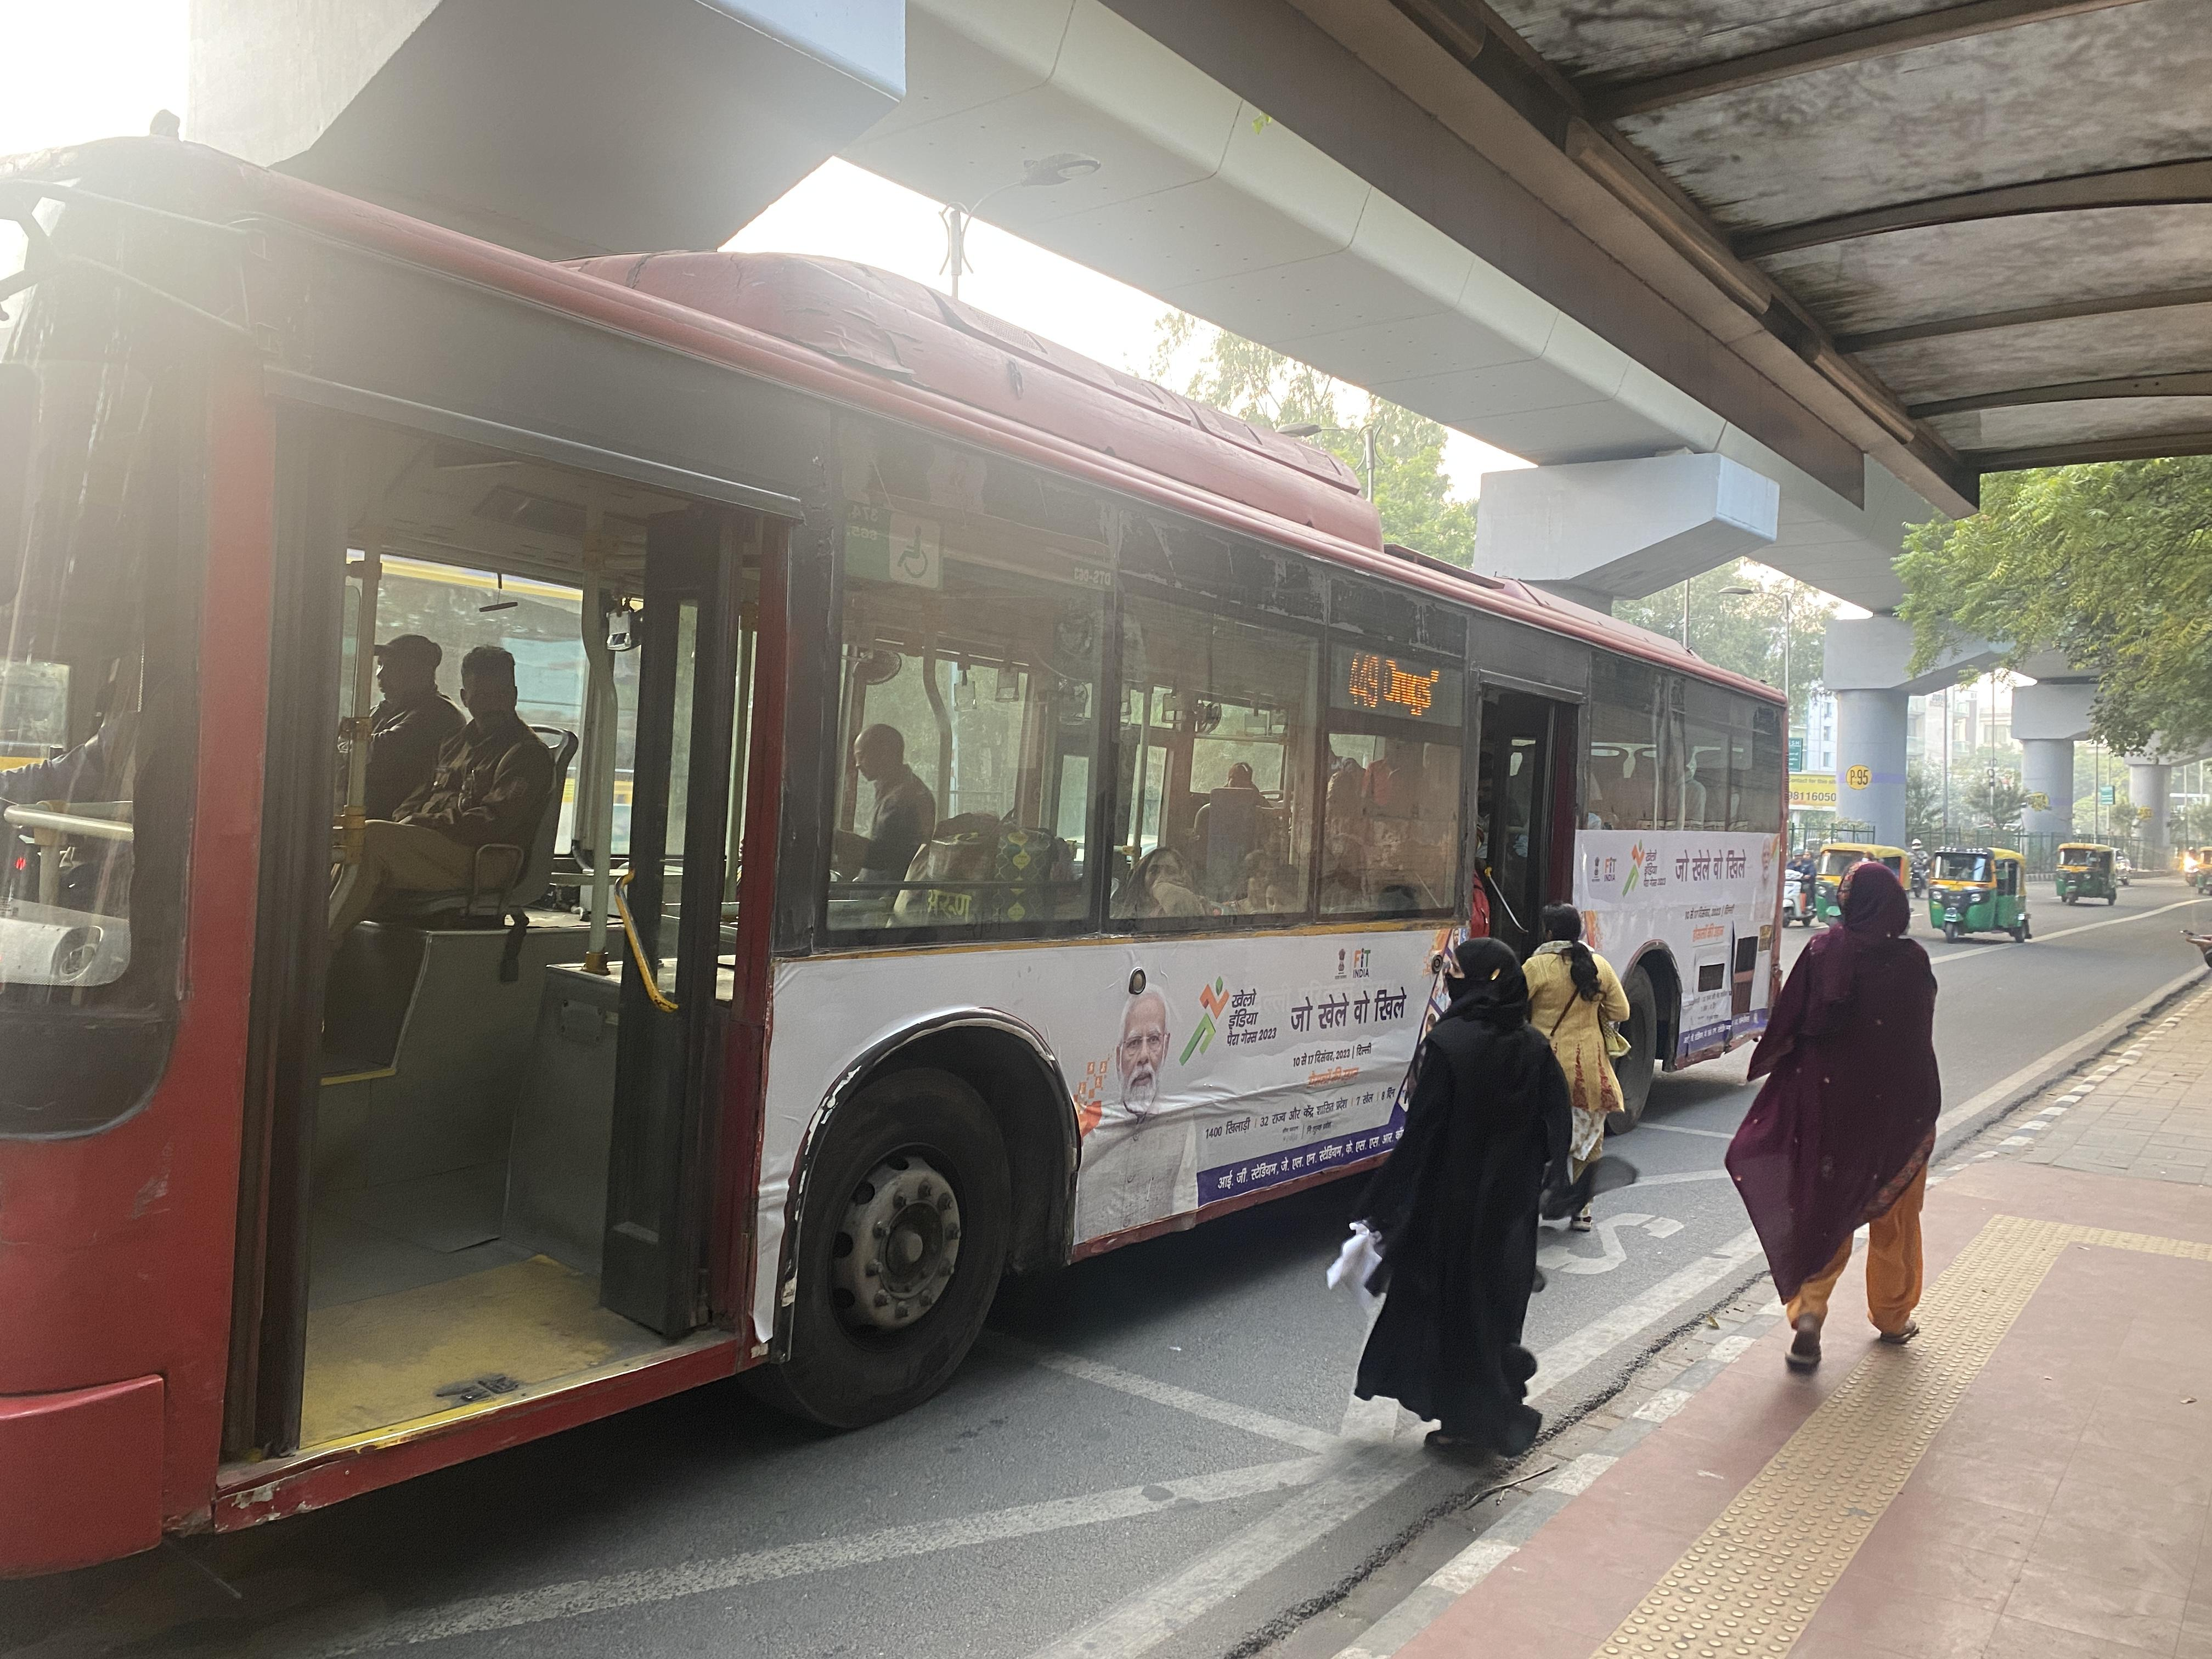Bus: (10, 153, 1926, 1601)
Display Board: (1317, 626, 1508, 769)
